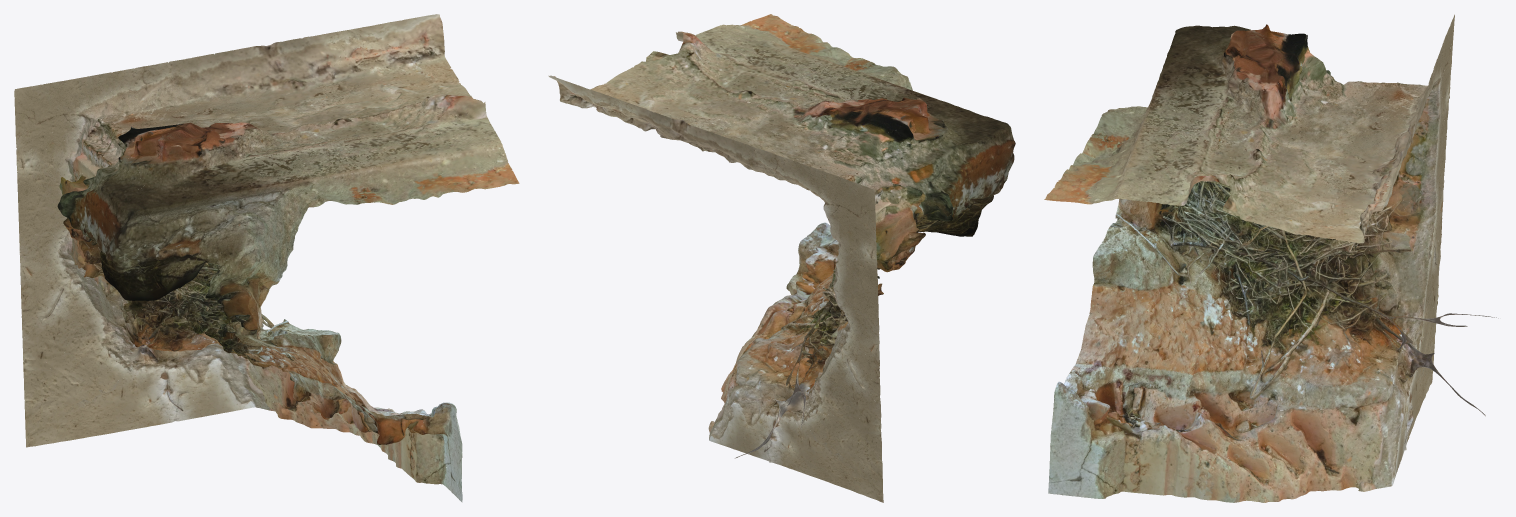
Rendered from sf-bird-nest-in-a-wall-549c4d.glb.
3 views of the same model, side by side, from view 1: azimuth 30°, elevation 25°; view 2: azimuth 150°, elevation 25°; view 3: azimuth 270°, elevation 25° (orthographic). The views are drawn at different scales.
Visible parts, largest first — view 1: Model_material0_0, Model_material1_0, Model_material2_0; view 2: Model_material0_0, Model_material1_0, Model_material2_0; view 3: Model_material1_0, Model_material2_0, Model_material0_0.
Boxes of the visible parts, x1,y1,x2,y2 form: Model_material0_0: (14, 72, 471, 502); Model_material1_0: (15, 14, 519, 432); Model_material2_0: (16, 54, 450, 484); Model_material0_0: (678, 31, 1000, 502); Model_material1_0: (548, 14, 978, 458); Model_material2_0: (709, 121, 1015, 454); Model_material1_0: (1044, 26, 1485, 501); Model_material2_0: (1083, 25, 1498, 502); Model_material0_0: (1048, 14, 1484, 498).
Bounding box in the file's own units: 0.7949 × 0.655 × 0.7216.
Materials: 3 (3 with a texture image).
